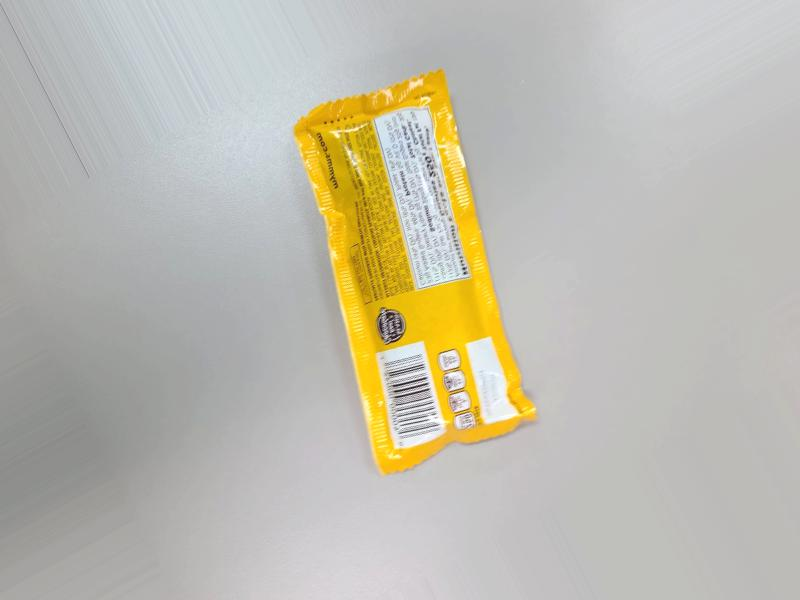m&m: (322, 55, 528, 459)
